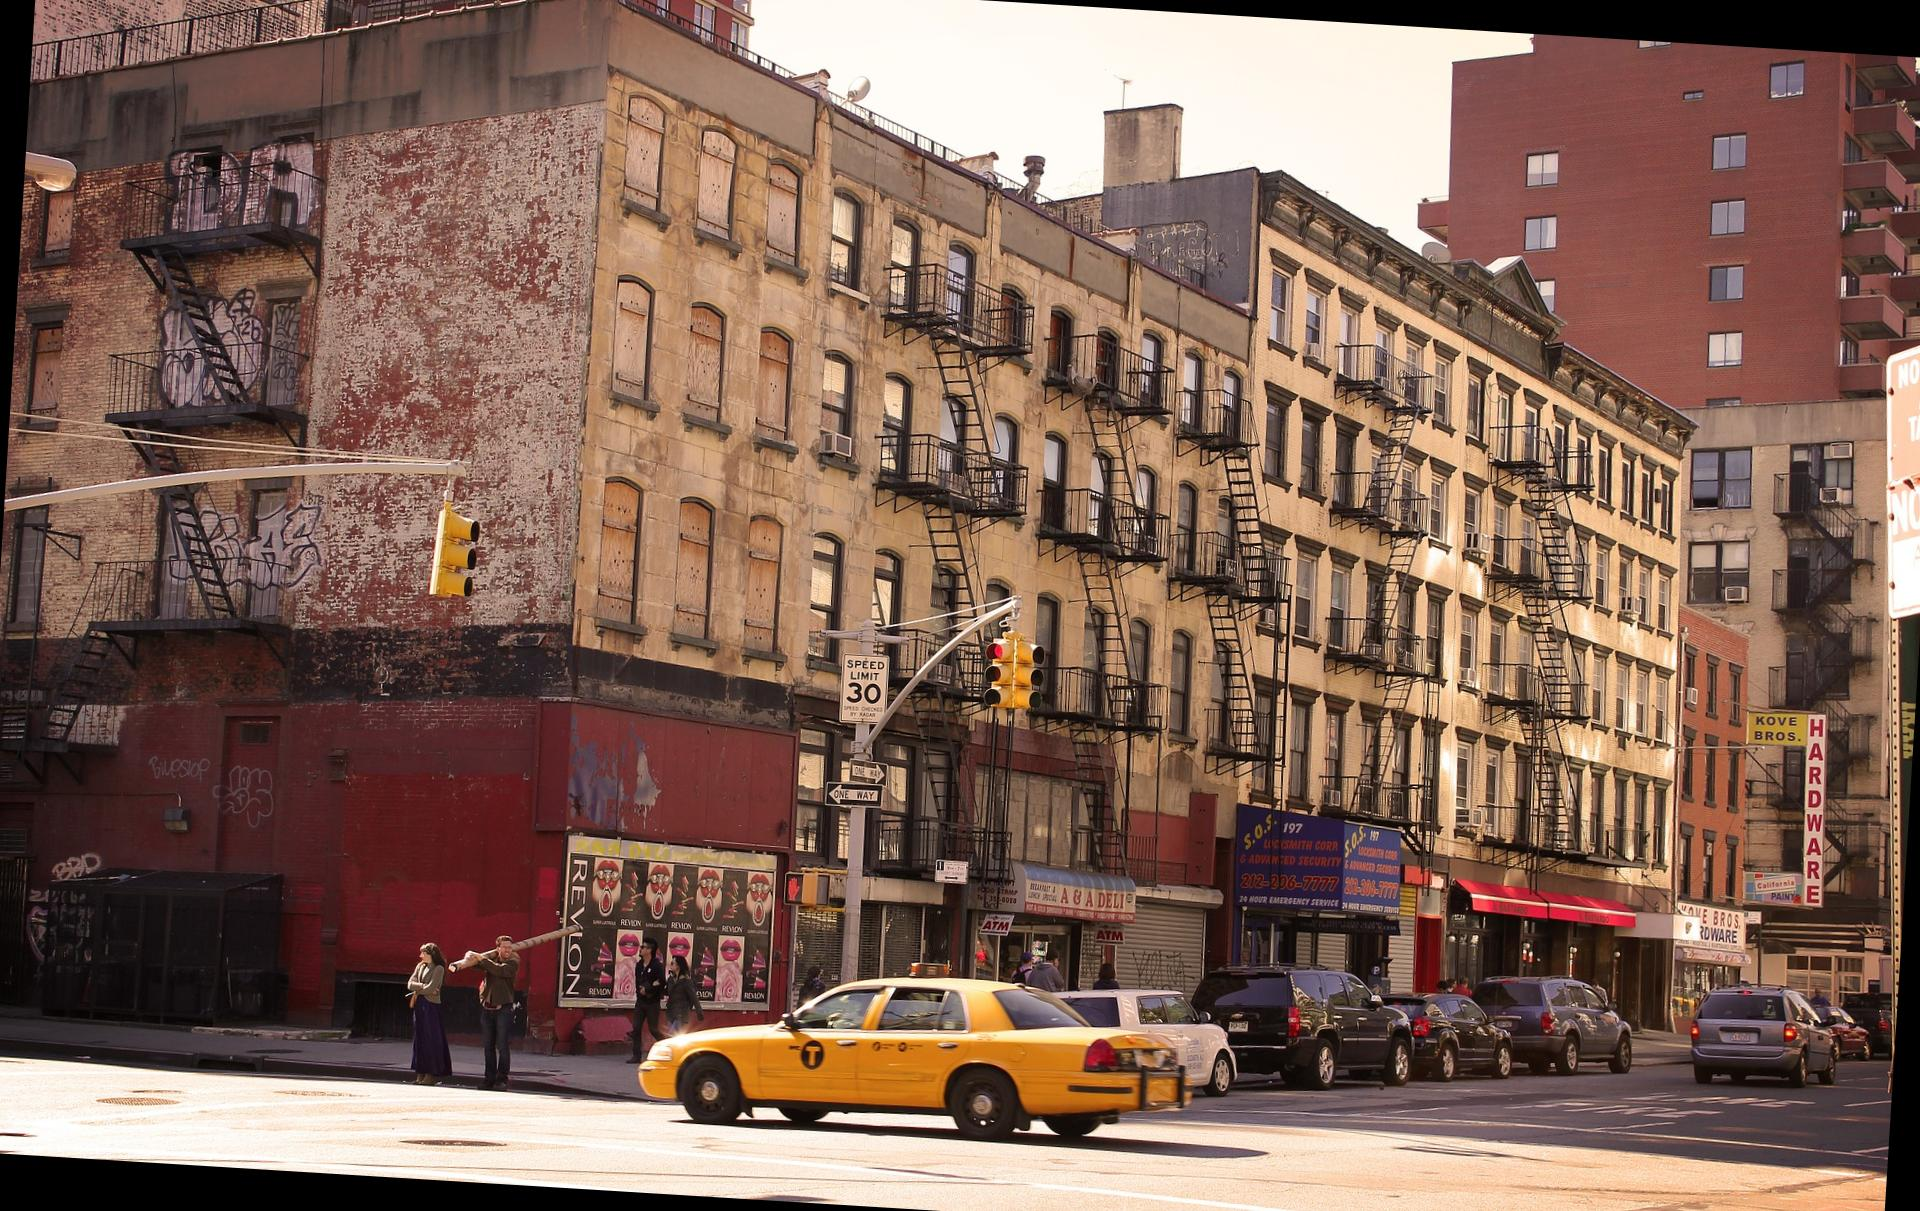taxi: (622, 989, 1220, 1133)
